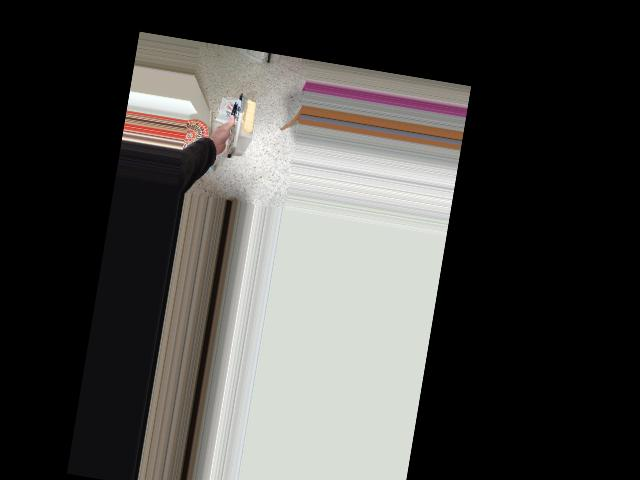cheese: (188, 87, 263, 165)
